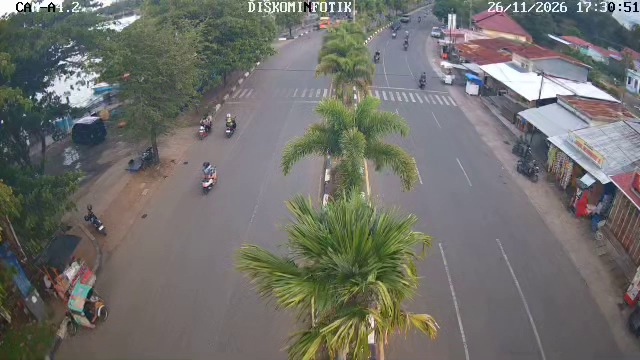Gerobak: (65, 283, 108, 332)
